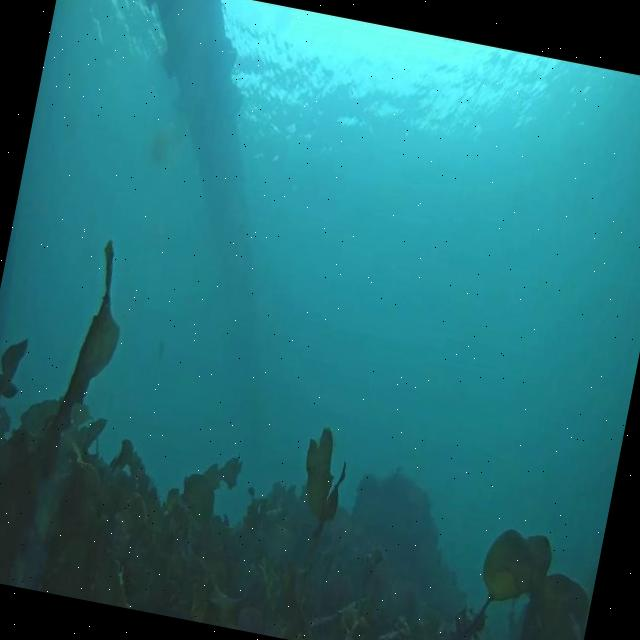fish: (153, 329, 169, 365)
